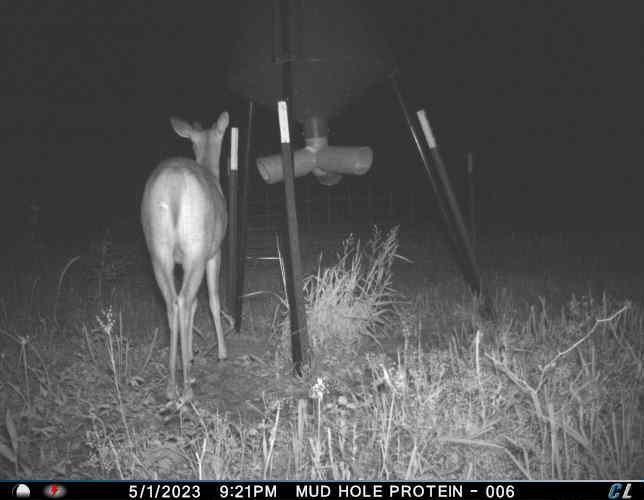Deer: (139, 111, 230, 402)
